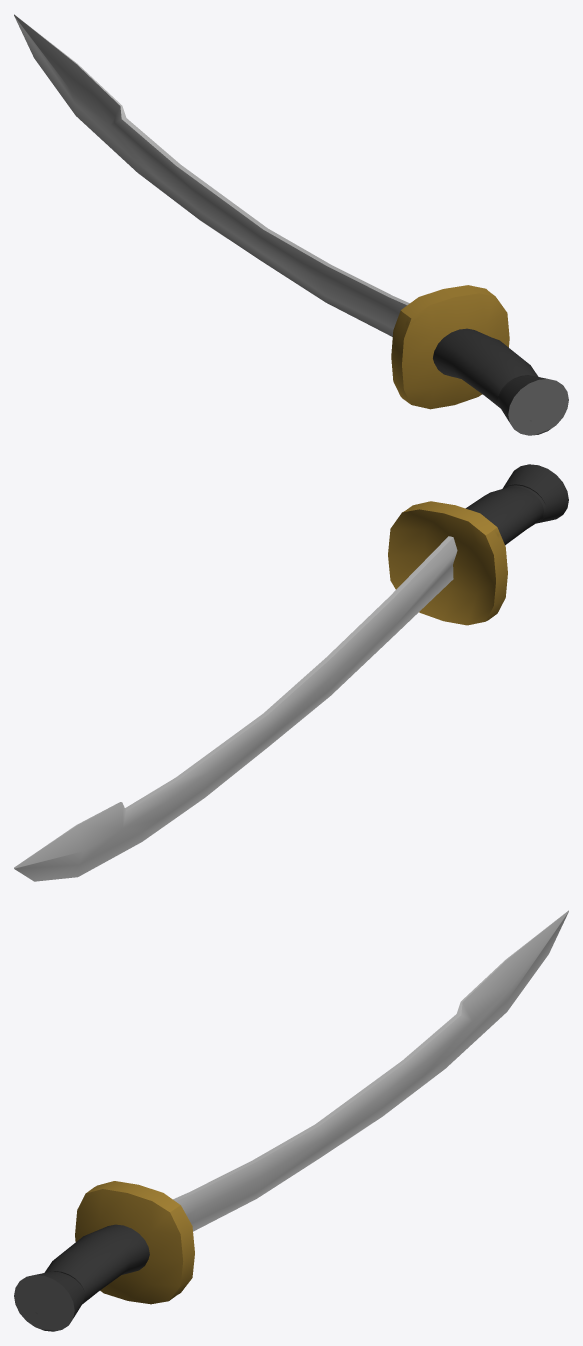
Rendered from Sabre.fbx.
3 renders of one model, top to bottom at view 1: azimuth 30°, elevation 25°; view 2: azimuth 150°, elevation 25°; view 3: azimuth 330°, elevation 25°, orthographic.
Visible parts, largest first — view 1: pCube1, pCube2, pCylinder1; view 2: pCube1, pCube2, pCylinder1; view 3: pCube1, pCube2, pCylinder1.
Part boxes in pixels (<box>): pCube1: <box>14,14,409,336</box>; pCube2: <box>391,285,509,409</box>; pCylinder1: <box>433,328,568,435</box>; pCube1: <box>14,536,457,881</box>; pCube2: <box>388,501,507,625</box>; pCylinder1: <box>465,464,568,545</box>; pCube1: <box>173,910,568,1231</box>; pCube2: <box>75,1181,194,1304</box>; pCylinder1: <box>14,1224,149,1331</box>.
Size of the model in its own units: 0.4006 by 0.3804 by 3.35.
Materials: 1 (1 with a texture image).
